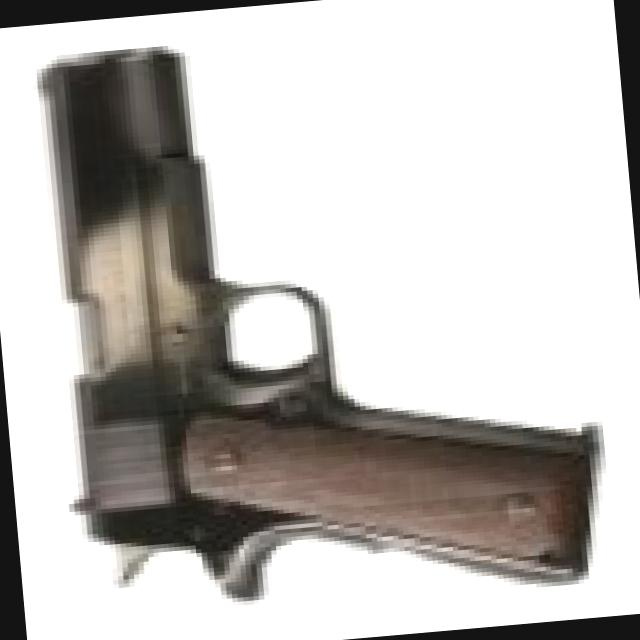handgun: (8, 15, 600, 636)
